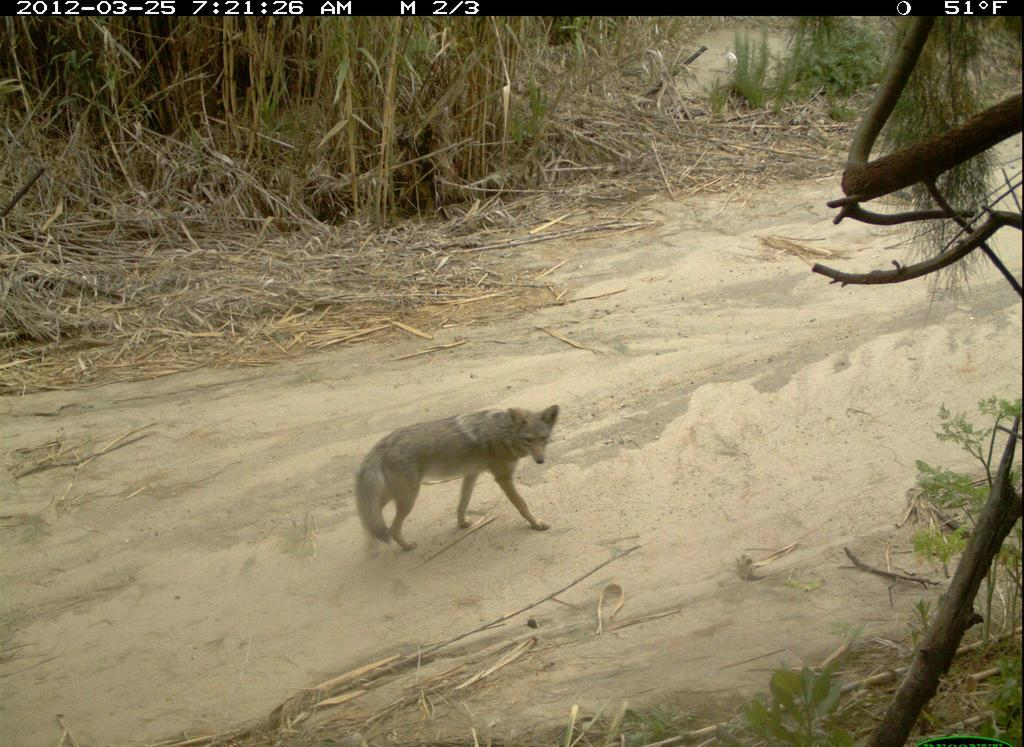coyote: (338, 391, 583, 547)
